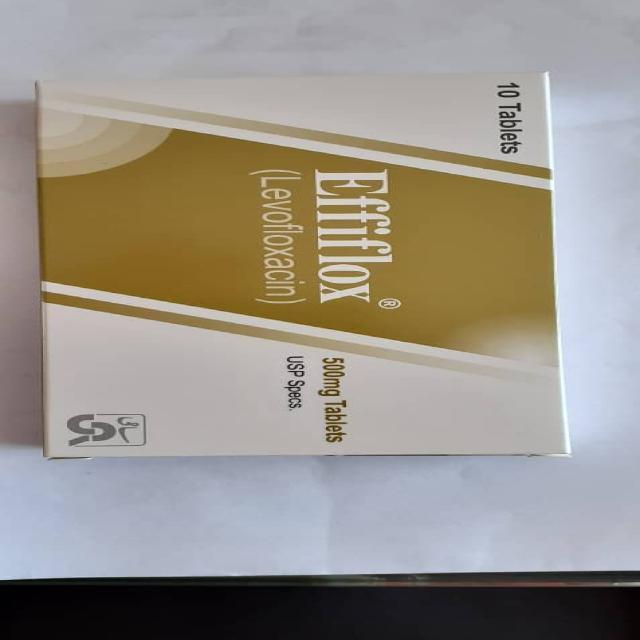drug-name: (312, 160, 402, 313)
